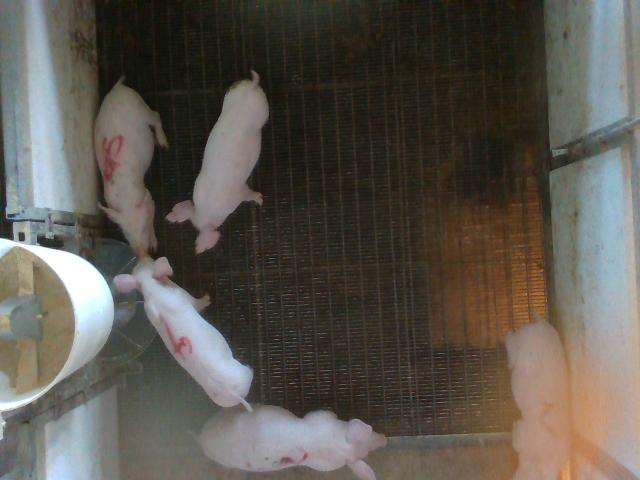pig-2: (506, 319, 570, 478)
pig-3: (196, 404, 386, 479)
pig-4: (115, 256, 252, 409)
pig-5: (94, 76, 168, 258)
